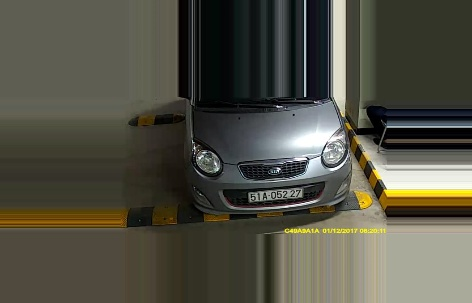plate: (245, 187, 304, 200)
